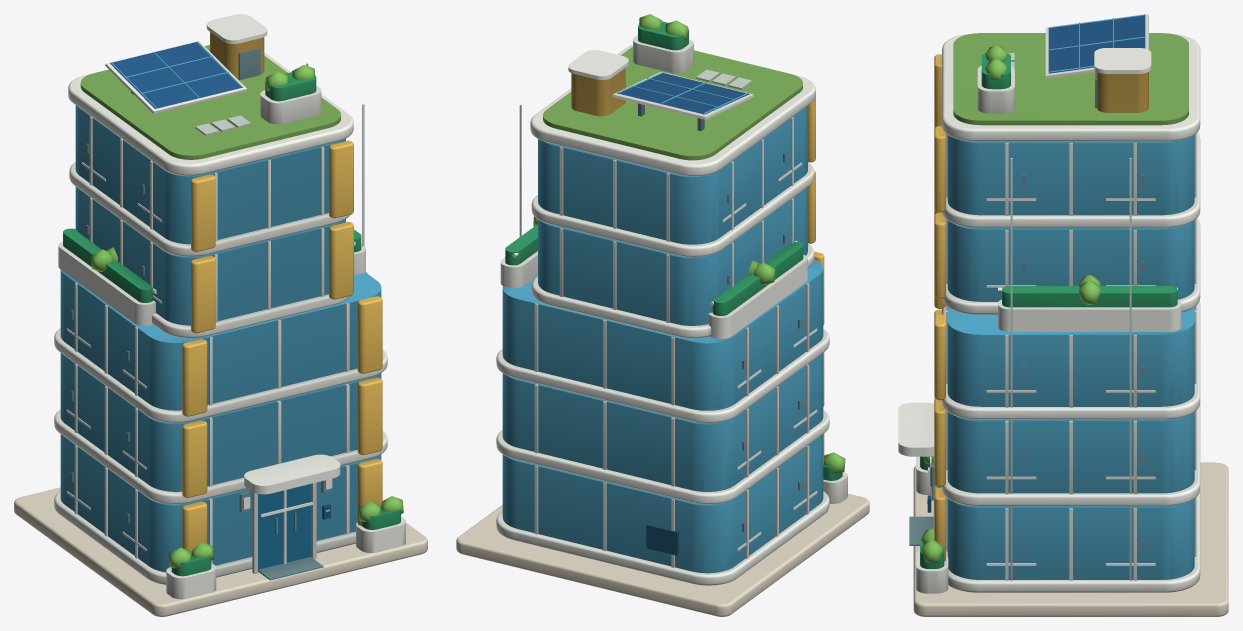
Rendered from townhouse-cream.glb.
3 renders of one model, left to right at view 1: azimuth 30°, elevation 25°; view 2: azimuth 150°, elevation 25°; view 3: azimuth 270°, elevation 25°, orthographic. The views are drawn at different scales.
Parts seen in each view (by area): view 1: continuous blue glazing, floor rim, coloured facade fin, paved building footprint, green roof, photovoltaic cells, planter foliage, recessed entrance, shrub tip, roof access hatch, maintenance stepping stone; view 2: continuous blue glazing, floor rim, paved building footprint, green roof, planter foliage, coloured facade fin, photovoltaic cells, shrub tip, entry intercom, maintenance stepping stone, roof access hatch; view 3: continuous blue glazing, floor rim, green roof, paved building footprint, coloured facade fin, planter foliage, photovoltaic cells, building movement joint, shrub tip, roof access hatch.
Boxes of the visible parts, x1,y1,x2,y2 form: continuous blue glazing: (60,41,381,572); floor rim: (54,14,405,599); coloured facade fin: (182,32,382,552); paved building footprint: (14,487,427,616); green roof: (80,45,340,159); photovoltaic cells: (110,41,242,108); planter foliage: (63,72,400,576); recessed entrance: (258,484,311,569); shrub tip: (91,65,403,568); roof access hatch: (70,48,332,580); maintenance stepping stone: (195,115,251,135); continuous blue glazing: (502,72,823,573); floor rim: (496,35,847,585); paved building footprint: (456,493,869,616); green roof: (543,47,802,160); planter foliage: (505,21,842,480); coloured facade fin: (571,68,824,464); photovoltaic cells: (617,73,749,114); shrub tip: (533,14,845,473); entry intercom: (646,524,678,555); maintenance stepping stone: (696,69,751,89); roof access hatch: (638,103,801,531); continuous blue glazing: (947,14,1194,579); floor rim: (898,14,1200,593); green roof: (953,33,1188,125); paved building footprint: (913,462,1228,616); coloured facade fin: (934,54,1148,561); planter foliage: (920,53,1177,568); photovoltaic cells: (1048,14,1145,73); building movement joint: (1010,158,1131,580); shrub tip: (921,45,1100,562); roof access hatch: (909,71,1144,549).
Bounding box in the file's own units: 2.72 × 4.56 × 2.66.
